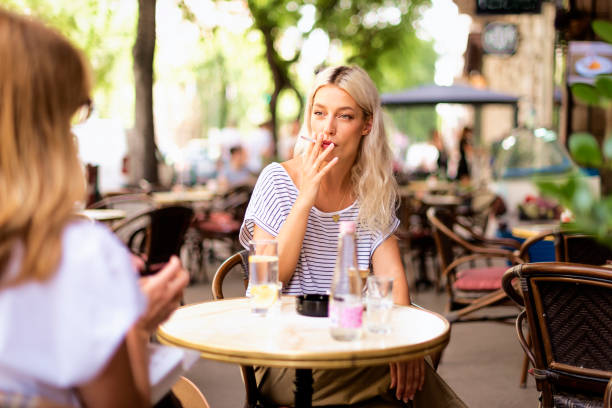cigarette: (299, 134, 319, 144)
